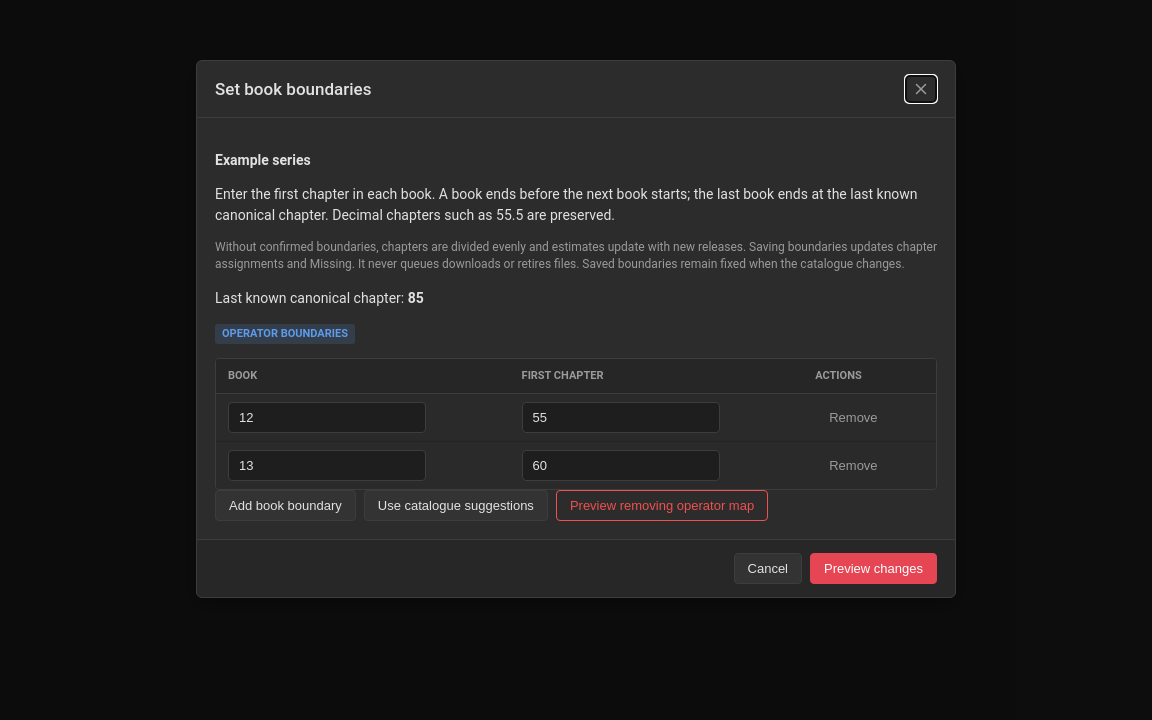
Test case: validation and preview › rejects invalid First chapter in row 1 = NaN before sending a preview
Replace the text in the field named "First chapter in row 1" with "NaN" at (621, 417), box [522,402,720,433]
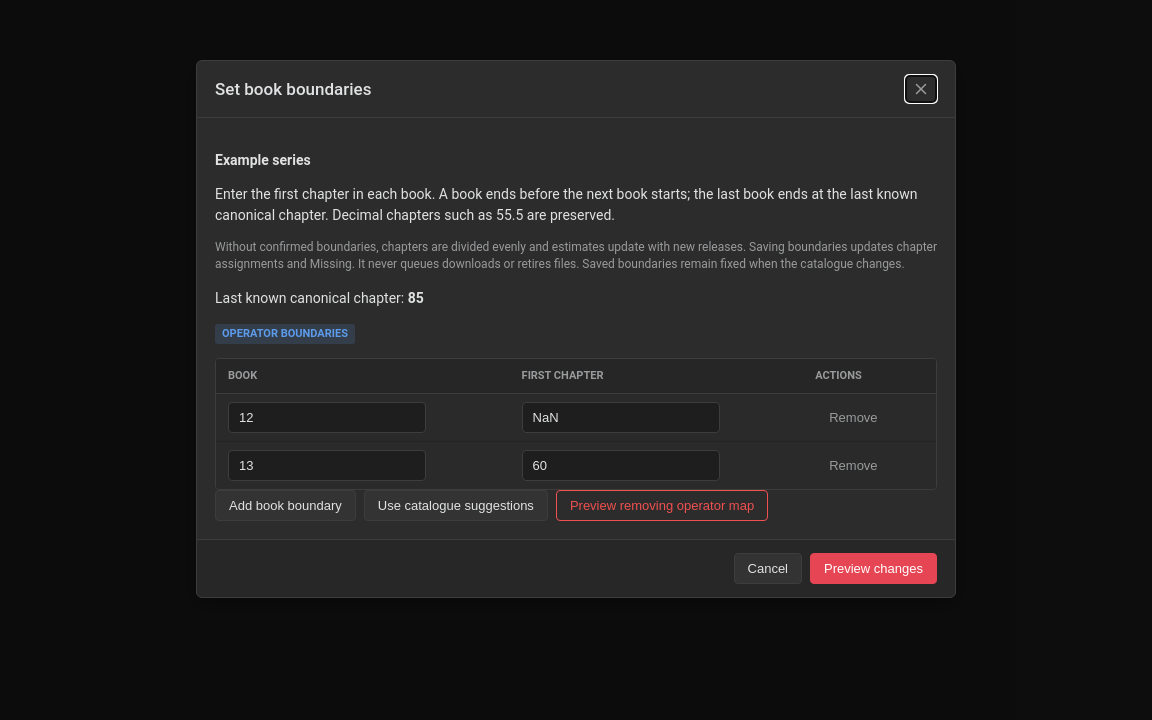
Click the button "Preview changes" at (874, 568), box [810,553,937,584]
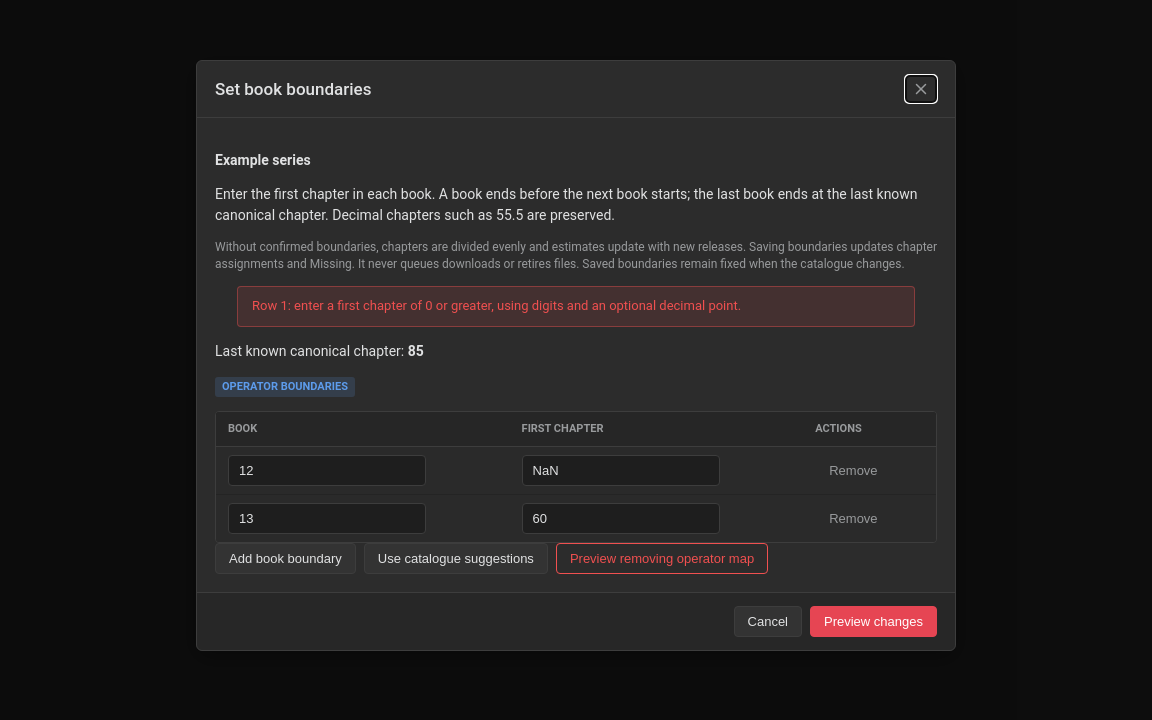
Now the message shows "0 or greater", box [252,298,741,313]
